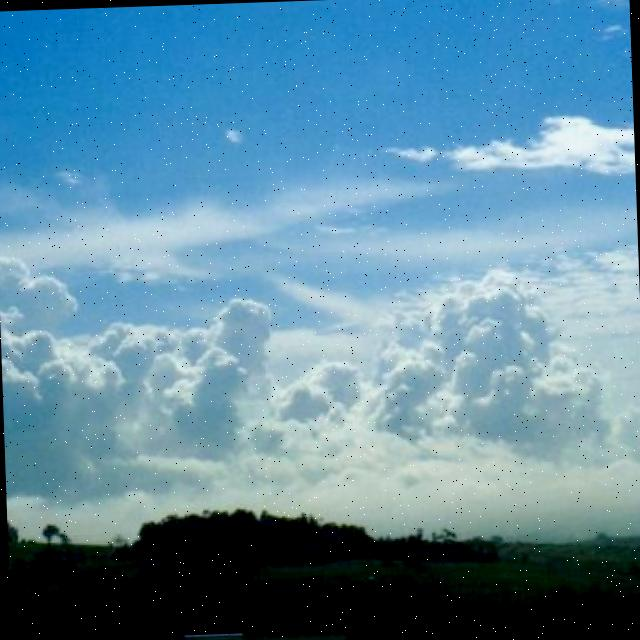Ci: (1, 58, 640, 486)
